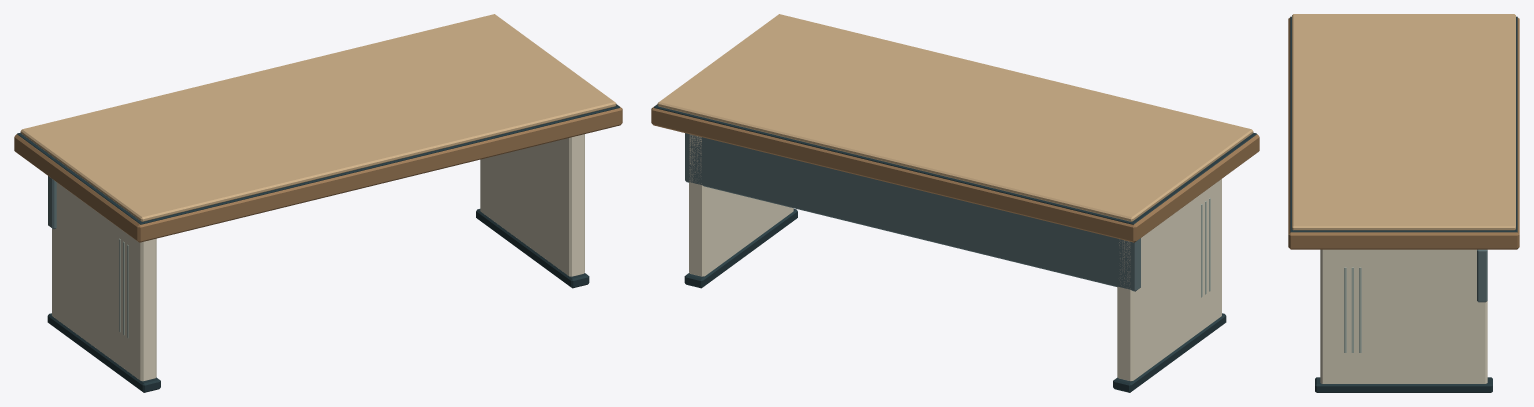
The model's file is desk.glb.
3 views of the same model, side by side, from view 1: azimuth 30°, elevation 25°; view 2: azimuth 150°, elevation 25°; view 3: azimuth 270°, elevation 25° (orthographic). The views are drawn at different scales.
Parts seen in each view (by area): view 1: Laminate, LeftPanel, Nosing, RightPanel, Reveal, RightFoot, LeftFoot; view 2: Laminate, Apron, LeftPanel, Nosing, RightPanel, Reveal, RightFoot, LeftFoot; view 3: Laminate, RightPanel, Nosing, RightFoot, Reveal, Apron, RightPress0, RightPress2, RightPress1.
Part boxes in pixels (x1,y1,x2,y2): Laminate: [20, 14, 616, 221]; LeftPanel: [52, 182, 156, 381]; Nosing: [14, 106, 622, 242]; RightPanel: [480, 134, 584, 276]; Reveal: [17, 104, 619, 224]; RightFoot: [476, 209, 589, 288]; LeftFoot: [47, 313, 160, 392]; Laminate: [657, 14, 1253, 221]; Apron: [685, 133, 1140, 291]; LeftPanel: [1117, 179, 1221, 381]; Nosing: [651, 106, 1259, 242]; RightPanel: [689, 134, 793, 276]; Reveal: [654, 104, 1256, 224]; RightFoot: [684, 209, 797, 288]; LeftFoot: [1113, 313, 1226, 392]; Laminate: [1292, 14, 1515, 230]; RightPanel: [1320, 249, 1487, 383]; Nosing: [1288, 17, 1519, 249]; RightFoot: [1315, 377, 1492, 392]; Reveal: [1290, 16, 1517, 232]; Apron: [1477, 249, 1487, 302]; RightPress0: [1344, 267, 1346, 352]; RightPress2: [1359, 267, 1361, 352]; RightPress1: [1351, 267, 1353, 352].
Size of the model in its own units: 2.9 by 1.08 by 1.3.
